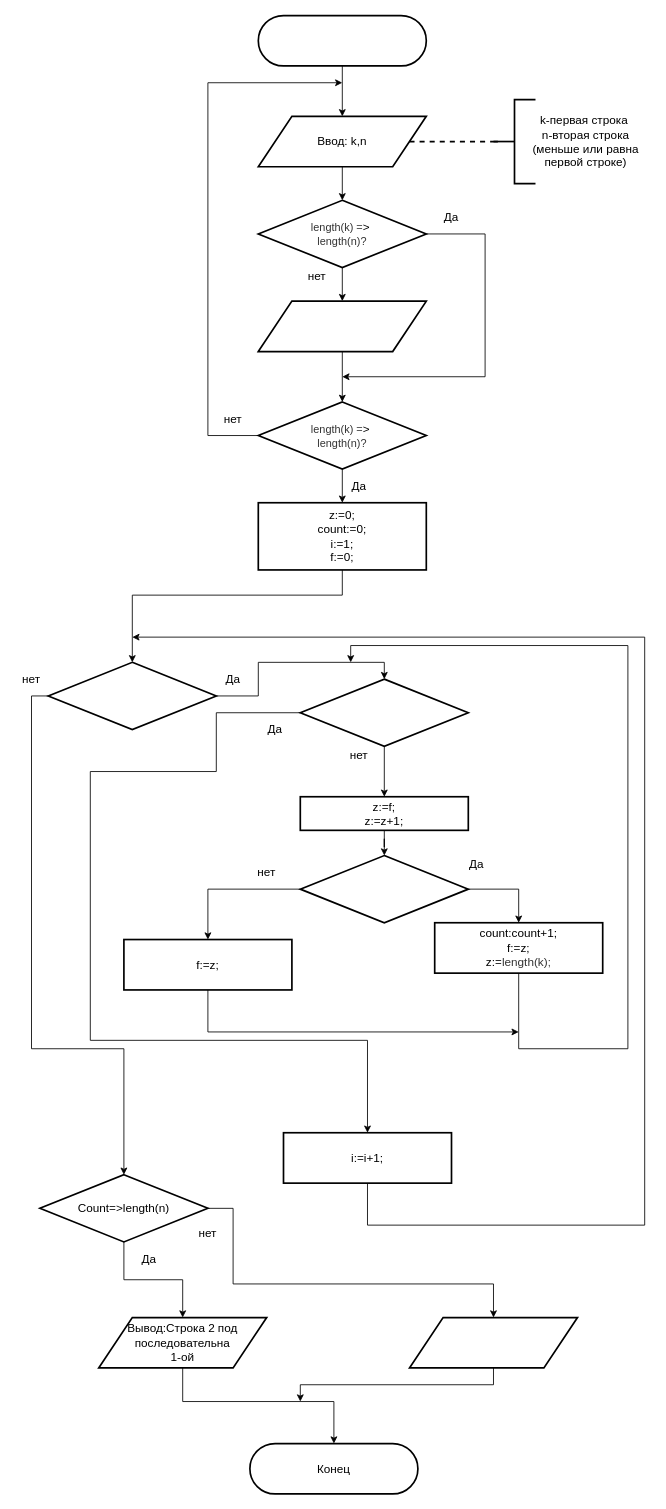
Image size: 666x1509. Some labels were removed from this diagram. The shapes that lost their labels are listed below. From the top down, each one's centre as x and y in pixels, then its label:
At point (342, 40): "Начало".
At point (342, 326): "Вывод:Ошибка Введите занова.".
At point (132, 695): "i<= length(n) ?".
At point (384, 712): "z= length(k) ?".
At point (384, 888): "k[z]=n[i]?".
At point (493, 1342): "Вывод:Строка 2 не под последовательна 1-ой".
